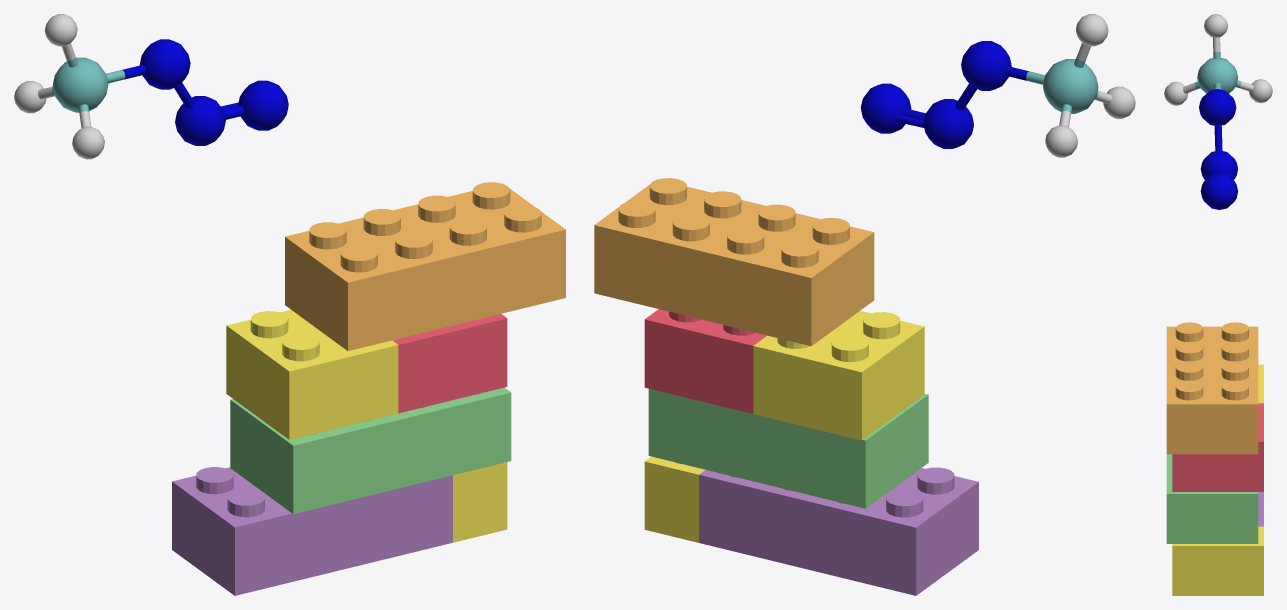
File: click1B.glb
3 views of the same model, side by side, from view 1: azimuth 30°, elevation 25°; view 2: azimuth 150°, elevation 25°; view 3: azimuth 270°, elevation 25° (orthographic). The views are drawn at different scales.
Parts seen in each view (by area): view 1: obj_5, clB; view 2: obj_5, clB; view 3: obj_5, clB.
Boxes of the visible parts, box(x1,y1,x2,y2) form: obj_5: box(172, 182, 565, 595); clB: box(14, 14, 288, 159); obj_5: box(594, 178, 978, 595); clB: box(860, 14, 1135, 157); obj_5: box(1166, 322, 1263, 595); clB: box(1164, 14, 1272, 209).
Size of the model in its own units: 3.56 by 4.16 by 0.9481.
